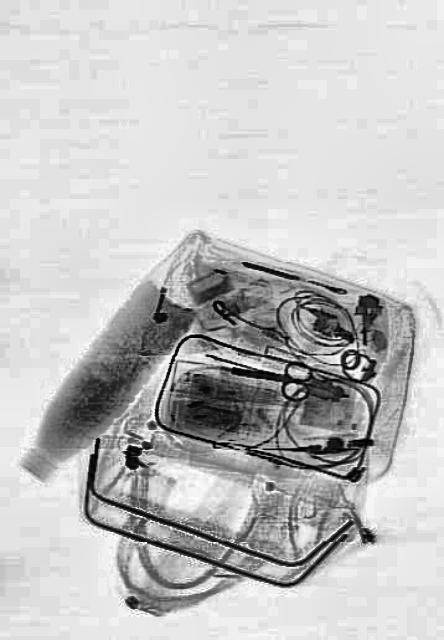Scissors: (224, 349, 312, 403)
